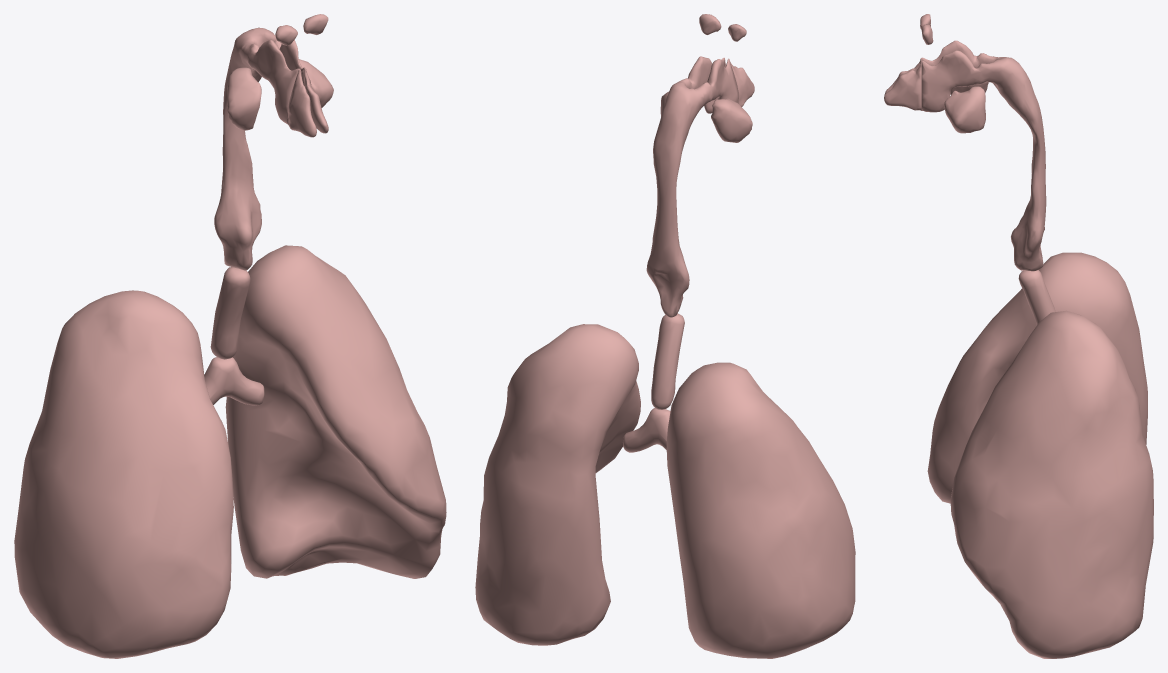
File: pediatric_adolescent_male.respiratory.LOD0.glb
3 renders of one model, left to right at view 1: azimuth 30°, elevation 25°; view 2: azimuth 150°, elevation 25°; view 3: azimuth 270°, elevation 25°, orthographic. The views are drawn at different scales.
Visible parts, largest first — view 1: PEDIATRIC.ADOLESCENT.MALE.RESPIRATORY.LUNG.R, PEDIATRIC.ADOLESCENT.MALE.RESPIRATORY.LUNG.L, PEDIATRIC.ADOLESCENT.MALE.RESPIRATORY.ET2, PEDIATRIC.ADOLESCENT.MALE.RESPIRATORY.TRACHEA, PEDIATRIC.ADOLESCENT.MALE.RESPIRATORY.BB1, PEDIATRIC.ADOLESCENT.MALE.RESPIRATORY.ET1; view 2: PEDIATRIC.ADOLESCENT.MALE.RESPIRATORY.LUNG.R, PEDIATRIC.ADOLESCENT.MALE.RESPIRATORY.LUNG.L, PEDIATRIC.ADOLESCENT.MALE.RESPIRATORY.ET2, PEDIATRIC.ADOLESCENT.MALE.RESPIRATORY.TRACHEA, PEDIATRIC.ADOLESCENT.MALE.RESPIRATORY.BB1, PEDIATRIC.ADOLESCENT.MALE.RESPIRATORY.ET1; view 3: PEDIATRIC.ADOLESCENT.MALE.RESPIRATORY.LUNG.L, PEDIATRIC.ADOLESCENT.MALE.RESPIRATORY.LUNG.R, PEDIATRIC.ADOLESCENT.MALE.RESPIRATORY.ET2, PEDIATRIC.ADOLESCENT.MALE.RESPIRATORY.ET1, PEDIATRIC.ADOLESCENT.MALE.RESPIRATORY.TRACHEA.
Part boxes in pixels (x1,y1,x2,y2): PEDIATRIC.ADOLESCENT.MALE.RESPIRATORY.LUNG.R: (14, 290, 233, 658); PEDIATRIC.ADOLESCENT.MALE.RESPIRATORY.LUNG.L: (225, 245, 446, 578); PEDIATRIC.ADOLESCENT.MALE.RESPIRATORY.ET2: (214, 14, 333, 270); PEDIATRIC.ADOLESCENT.MALE.RESPIRATORY.TRACHEA: (210, 267, 250, 359); PEDIATRIC.ADOLESCENT.MALE.RESPIRATORY.BB1: (204, 357, 264, 405); PEDIATRIC.ADOLESCENT.MALE.RESPIRATORY.ET1: (288, 68, 328, 137); PEDIATRIC.ADOLESCENT.MALE.RESPIRATORY.LUNG.R: (666, 362, 855, 658); PEDIATRIC.ADOLESCENT.MALE.RESPIRATORY.LUNG.L: (475, 324, 640, 645); PEDIATRIC.ADOLESCENT.MALE.RESPIRATORY.ET2: (646, 14, 752, 317); PEDIATRIC.ADOLESCENT.MALE.RESPIRATORY.TRACHEA: (651, 313, 684, 409); PEDIATRIC.ADOLESCENT.MALE.RESPIRATORY.BB1: (623, 408, 670, 452); PEDIATRIC.ADOLESCENT.MALE.RESPIRATORY.ET1: (724, 57, 754, 106); PEDIATRIC.ADOLESCENT.MALE.RESPIRATORY.LUNG.L: (950, 310, 1153, 658); PEDIATRIC.ADOLESCENT.MALE.RESPIRATORY.LUNG.R: (927, 252, 1147, 503); PEDIATRIC.ADOLESCENT.MALE.RESPIRATORY.ET2: (920, 14, 1046, 271); PEDIATRIC.ADOLESCENT.MALE.RESPIRATORY.ET1: (884, 58, 921, 110); PEDIATRIC.ADOLESCENT.MALE.RESPIRATORY.TRACHEA: (1018, 270, 1055, 325).
Size of the model in its own units: 0.2581 by 0.4088 by 0.1767.
